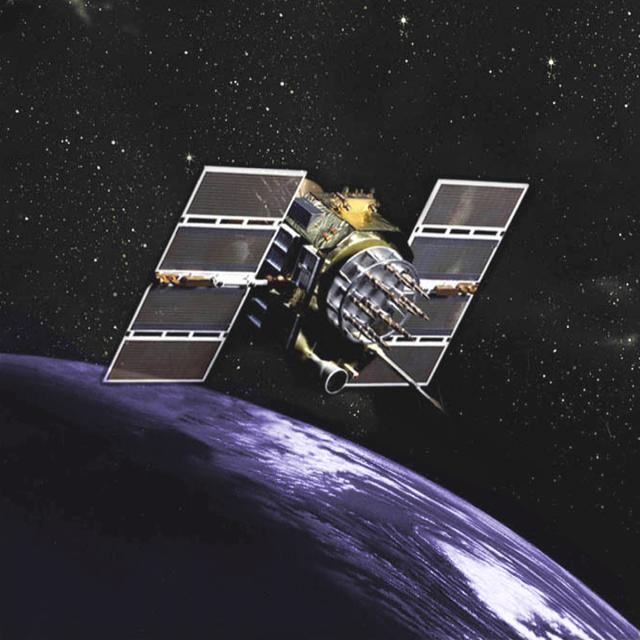satellite: (93, 154, 535, 442)
